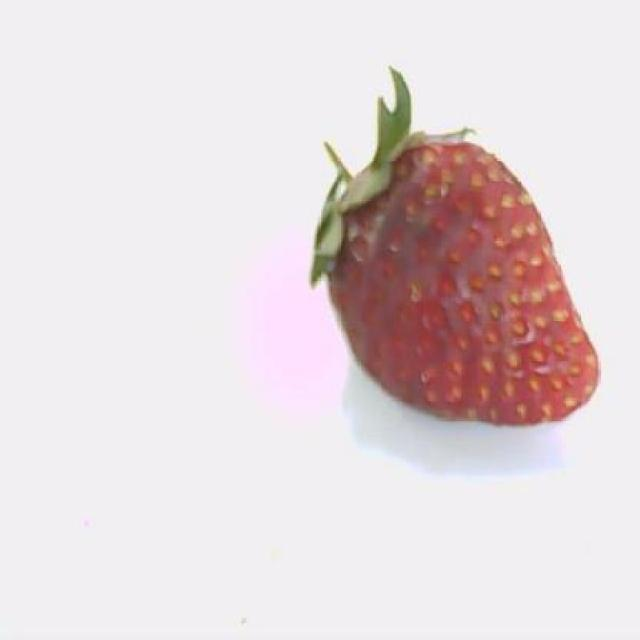strawberry: (311, 69, 598, 424)
